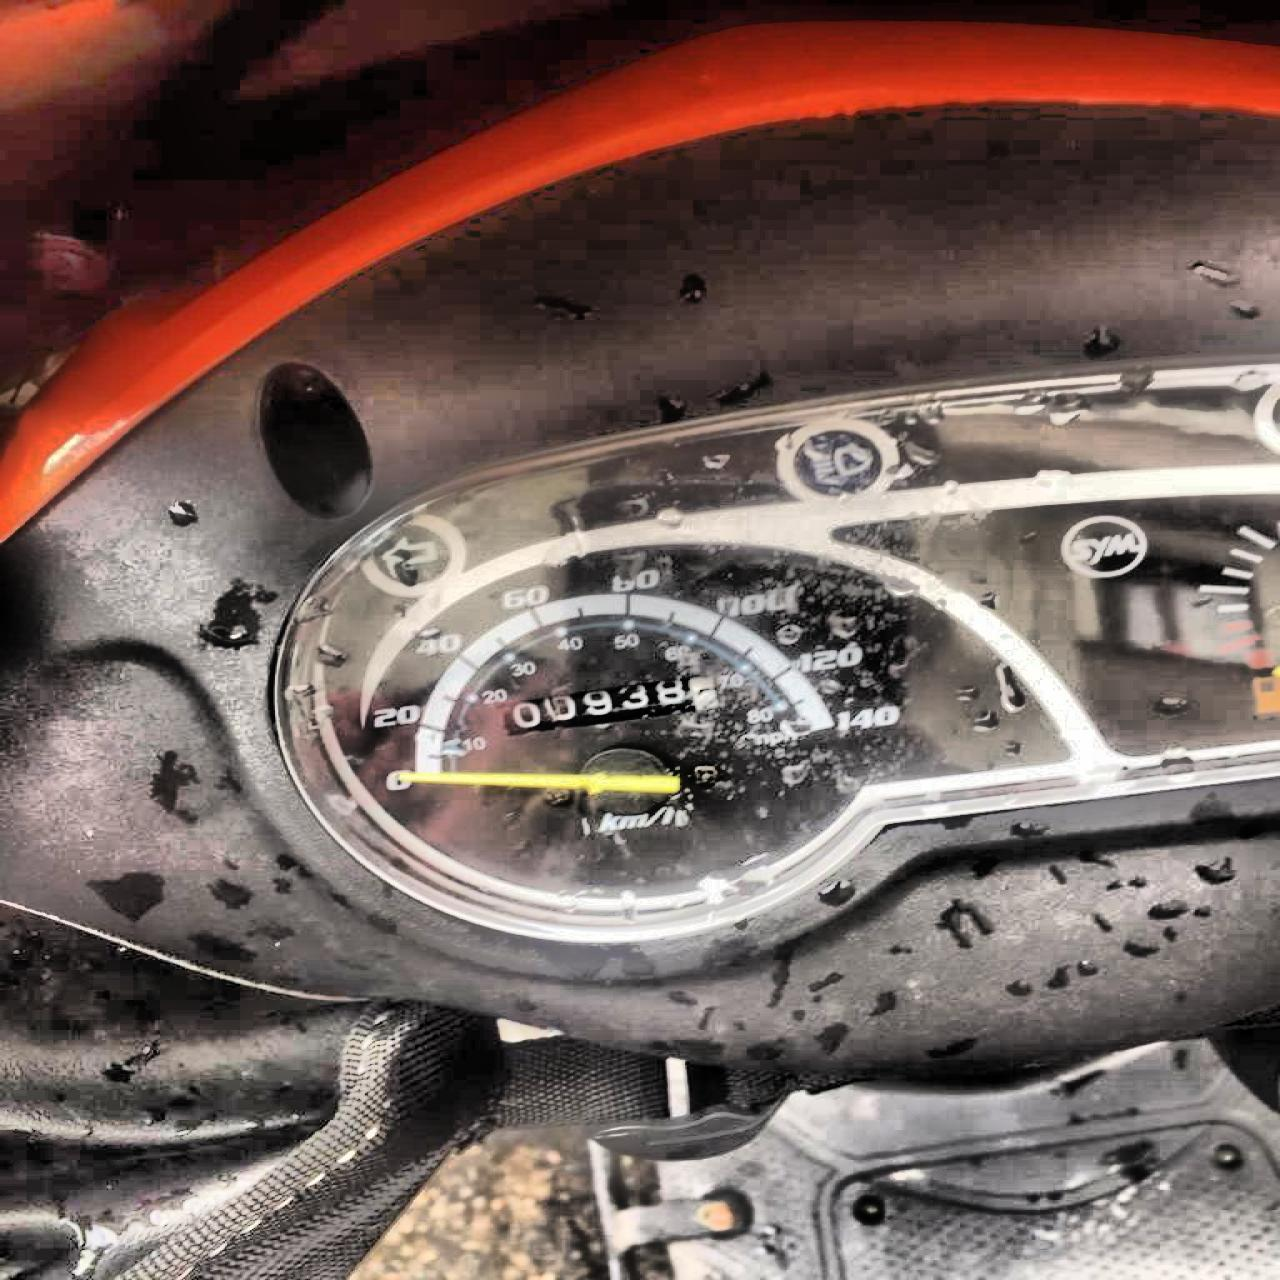0: (510, 700, 538, 728), (546, 694, 576, 720), (493, 688, 506, 701)
2: (694, 685, 719, 709)
3: (617, 682, 648, 710)
8: (654, 679, 683, 702)
9: (580, 689, 610, 715)
odometer: (493, 670, 722, 738)
